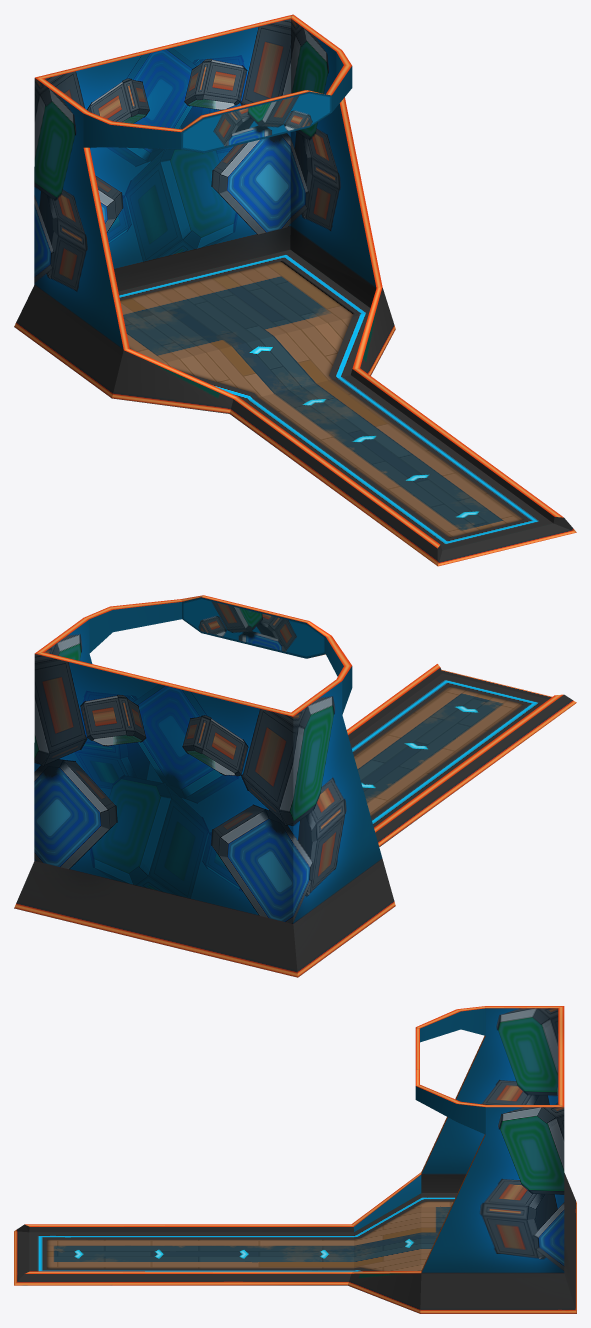
File: TargetRange.fbx
3 views of the same model, one above another, from view 1: azimuth 30°, elevation 25°; view 2: azimuth 150°, elevation 25°; view 3: azimuth 270°, elevation 25° (orthographic). The views are drawn at different scales.
Parts seen in each view (by area): view 1: TargetRange; view 2: TargetRange; view 3: TargetRange.
Boxes of the visible parts, box(x1,y1,x2,y2) form: TargetRange: box(14, 14, 576, 566); TargetRange: box(14, 595, 576, 977); TargetRange: box(14, 1006, 576, 1313).
Bounding box in the file's own units: 568 × 499 × 1217.
1 material, 1 textured.
